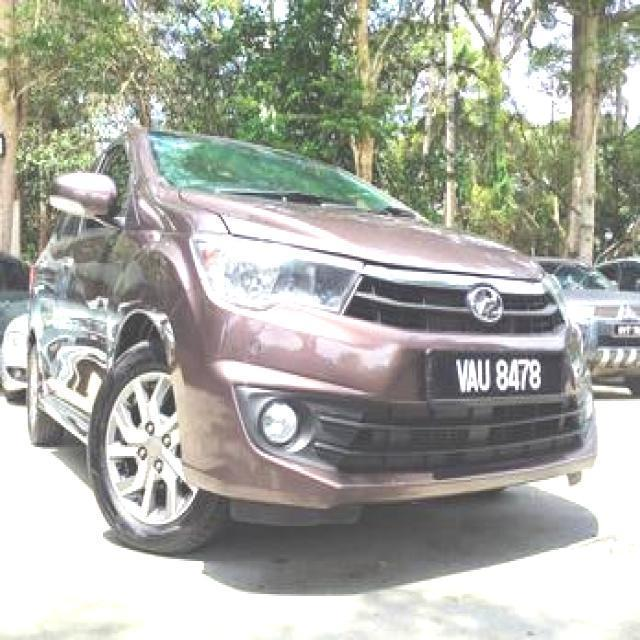PeroduaBezza: (1, 123, 599, 555)
